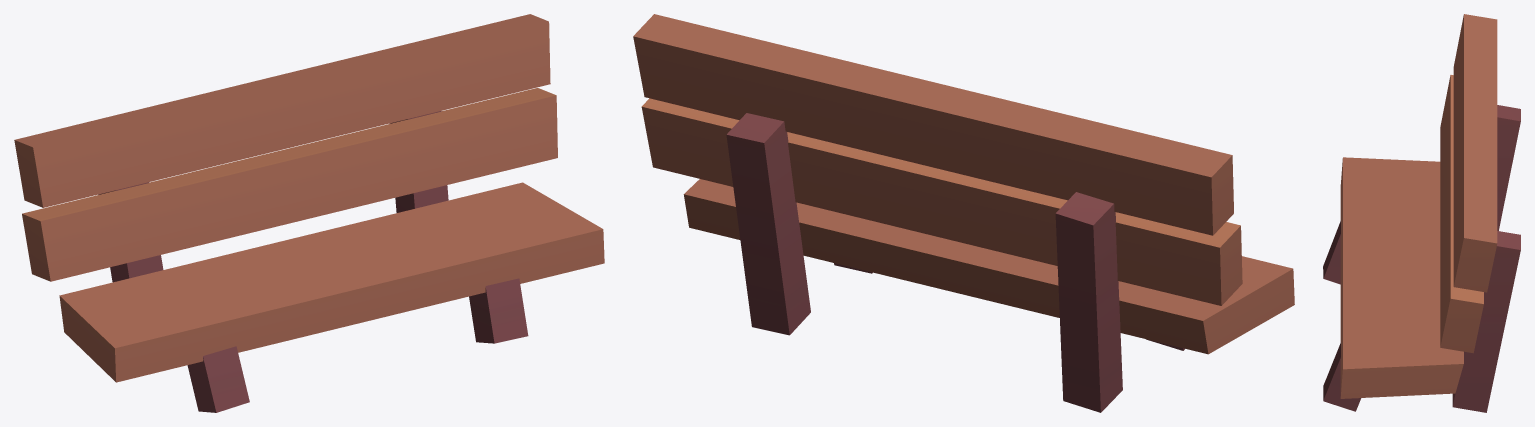
Rendered from Bench.obj.
3 renders of one model, left to right at view 1: azimuth 30°, elevation 25°; view 2: azimuth 150°, elevation 25°; view 3: azimuth 270°, elevation 25°, orthographic. The views are drawn at different scales.
Visible parts, largest first — view 1: {mesh}Bench_Cube.017; view 2: {mesh}Bench_Cube.017; view 3: {mesh}Bench_Cube.017.
Boxes of the visible parts, left/top/right/bottom form: {mesh}Bench_Cube.017: left=14, top=14, right=604, bottom=412; {mesh}Bench_Cube.017: left=633, top=14, right=1294, bottom=412; {mesh}Bench_Cube.017: left=1323, top=14, right=1520, bottom=412.
Bounding box in the file's own units: 71.16 × 32.45 × 26.56.
